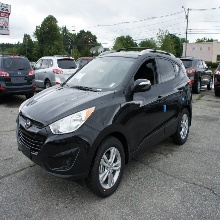no damage: (16, 48, 193, 198), (33, 49, 77, 89), (1, 51, 35, 98)
